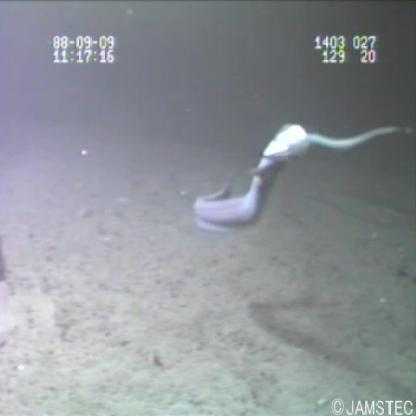Bio: (188, 114, 313, 242), (285, 120, 414, 164)
